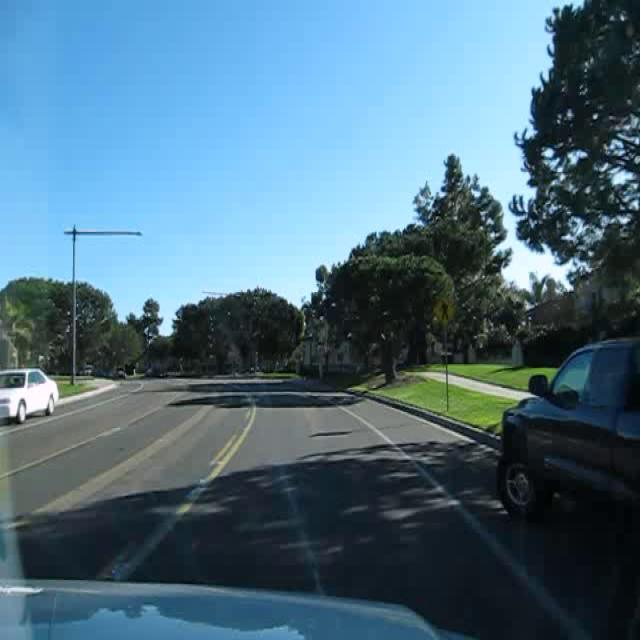pedestrianCrossing: (431, 293, 457, 328)
